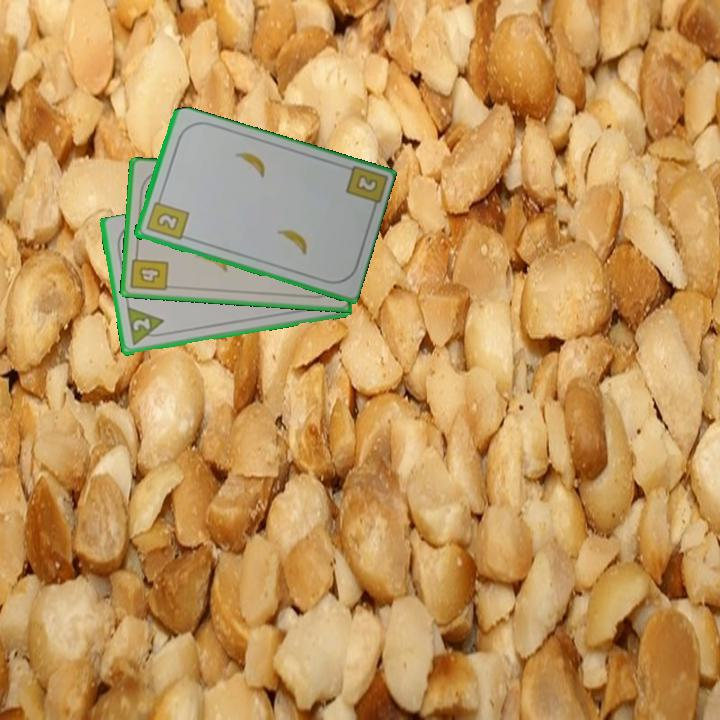2b: (142, 193, 191, 243), (352, 171, 381, 196)
2p: (129, 315, 153, 334)
4b: (127, 248, 171, 294)
